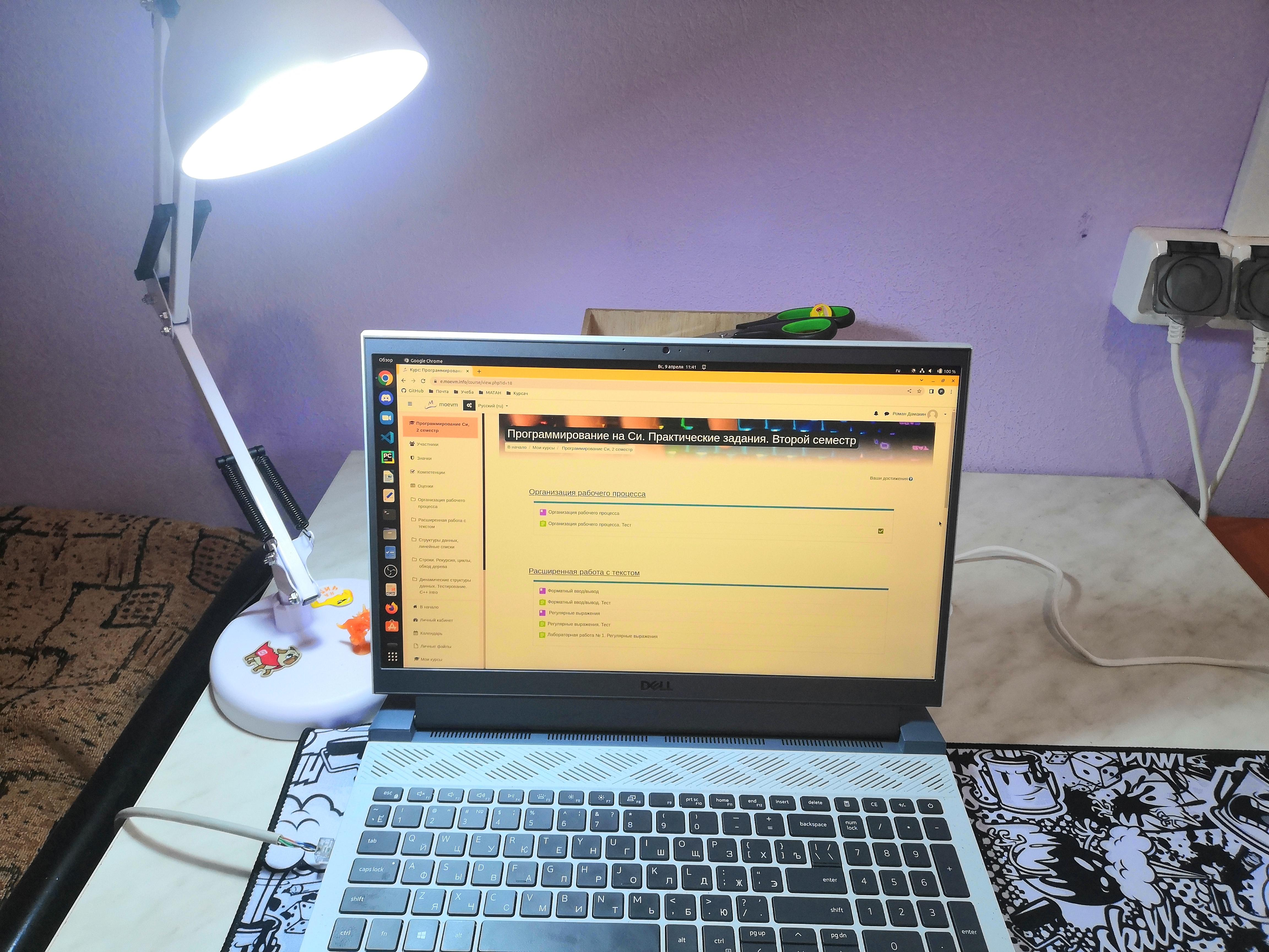monitor: (361, 328, 975, 716)
